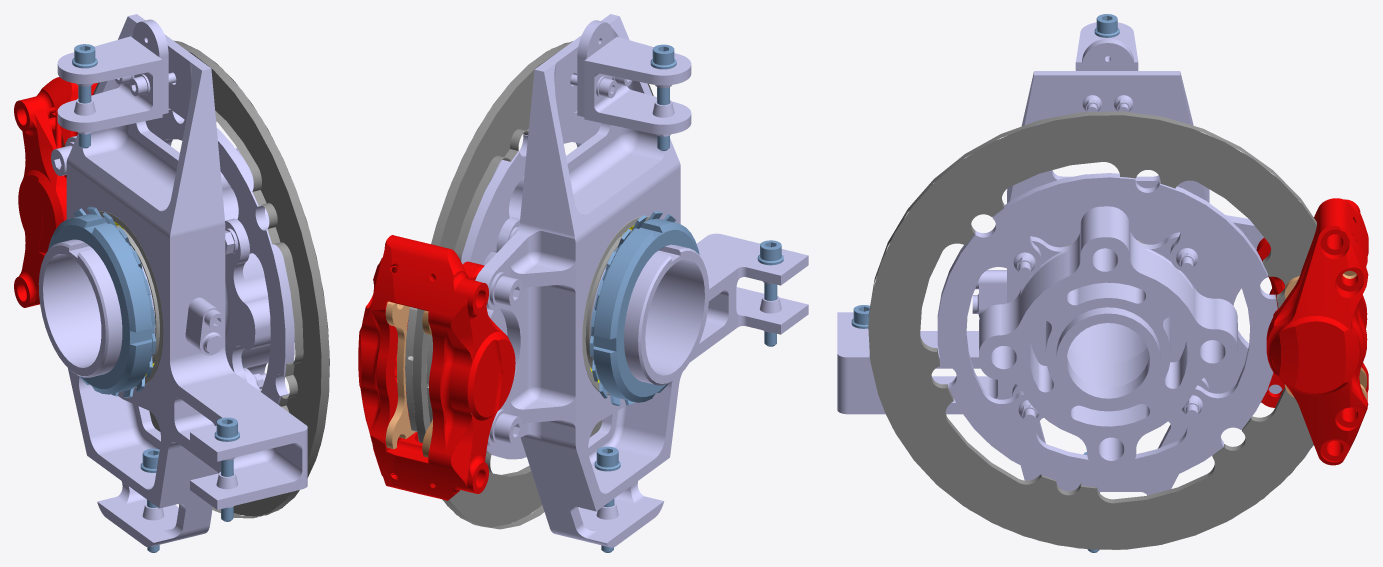
File: front_upright_assy_v1.glb
The picture shows the model from 3 angles, left to right: view 1: azimuth 30°, elevation 25°; view 2: azimuth 150°, elevation 25°; view 3: azimuth 270°, elevation 25°; orthographic projection. The views are drawn at different scales.
Parts seen in each view (by area): view 1: upright_FL_v1.1, brake_disc_230mm.1, front_hub_v1.1, Front_brake_caliper.1, brake_disc_carrier.1, skf_nut_km_13.1, chape_triangle_sup_front_v2.1, ISO 4762 SCREW M6x45 STEEL HEXAGON SOCKET HEAD CAP.1 (×3), camber_shim_5mm.2, skf_washer_mb_13.1, wheel_speed_sensor.1, Instance_2 (+4 smaller); view 2: upright_FL_v1.1, Front_brake_caliper.1, brake_disc_230mm.1, front_hub_v1.1, skf_nut_km_13.1, chape_triangle_sup_front_v2.1, brake_disc_carrier.1, ISO 4762 SCREW M6x45 STEEL HEXAGON SOCKET HEAD CAP.1 (×3), 8x16CHC.1 (×2), camber_shim_5mm.2, skf_washer_mb_13.1, Instance_2 (+1 smaller); view 3: brake_disc_230mm.1, front_hub_v1.1, brake_disc_carrier.1, upright_FL_v1.1, Front_brake_caliper.1, camber_shim_5mm.2, chape_triangle_sup_front_v2.1, cale_speed_sensor.1.
Part boxes in pixels (left/top/right/bottom): upright_FL_v1.1: left=65, top=14, right=307, bottom=547; brake_disc_230mm.1: left=93, top=40, right=329, bottom=518; front_hub_v1.1: left=38, top=148, right=294, bottom=381; Front_brake_caliper.1: left=14, top=77, right=97, bottom=307; brake_disc_carrier.1: left=145, top=108, right=294, bottom=404; skf_nut_km_13.1: left=48, top=214, right=153, bottom=394; chape_triangle_sup_front_v2.1: left=57, top=36, right=162, bottom=132; ISO 4762 SCREW M6x45 STEEL HEXAGON SOCKET HEAD CAP.1 (×3): left=74, top=44, right=237, bottom=552; camber_shim_5mm.2: left=133, top=19, right=168, bottom=114; skf_washer_mb_13.1: left=73, top=206, right=155, bottom=397; wheel_speed_sensor.1: left=195, top=305, right=223, bottom=355; Instance_2: left=99, top=211, right=163, bottom=387; upright_FL_v1.1: left=476, top=14, right=808, bottom=547; Front_brake_caliper.1: left=358, top=235, right=515, bottom=500; brake_disc_230mm.1: left=412, top=41, right=653, bottom=529; front_hub_v1.1: left=483, top=151, right=709, bottom=385; skf_nut_km_13.1: left=592, top=218, right=699, bottom=402; chape_triangle_sup_front_v2.1: left=584, top=37, right=691, bottom=134; brake_disc_carrier.1: left=461, top=111, right=600, bottom=459; ISO 4762 SCREW M6x45 STEEL HEXAGON SOCKET HEAD CAP.1 (×3): left=596, top=44, right=781, bottom=552; 8x16CHC.1 (×2): left=471, top=276, right=523, bottom=444; camber_shim_5mm.2: left=577, top=20, right=613, bottom=116; skf_washer_mb_13.1: left=589, top=211, right=675, bottom=405; Instance_2: left=582, top=216, right=649, bottom=395; brake_disc_230mm.1: left=868, top=111, right=1316, bottom=549; front_hub_v1.1: left=979, top=206, right=1237, bottom=471; brake_disc_carrier.1: left=937, top=173, right=1277, bottom=487; upright_FL_v1.1: left=837, top=71, right=1263, bottom=495; Front_brake_caliper.1: left=1256, top=198, right=1368, bottom=465; camber_shim_5mm.2: left=1082, top=38, right=1133, bottom=70; chape_triangle_sup_front_v2.1: left=1075, top=22, right=1138, bottom=70; cale_speed_sensor.1: left=987, top=270, right=1006, bottom=307.
Size of the model in its own units: 0.1118 by 0.2709 by 0.2544.
